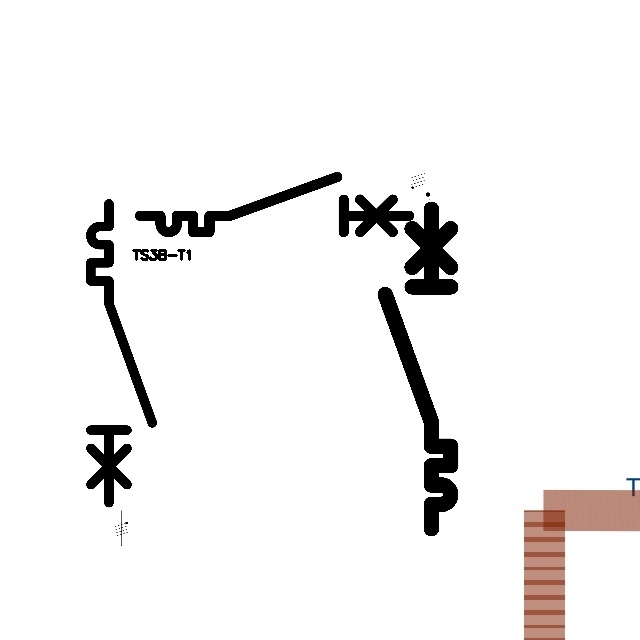interruptor_termomagnetico: (377, 201, 459, 537), (83, 196, 160, 510), (133, 170, 416, 239)
